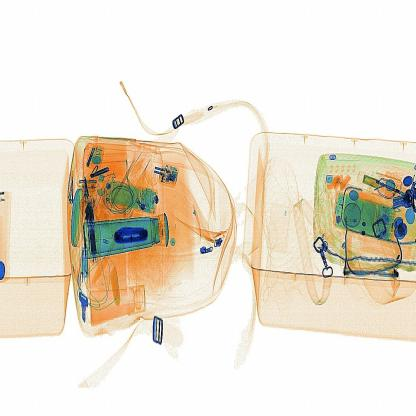scissors: (108, 216, 156, 246)
